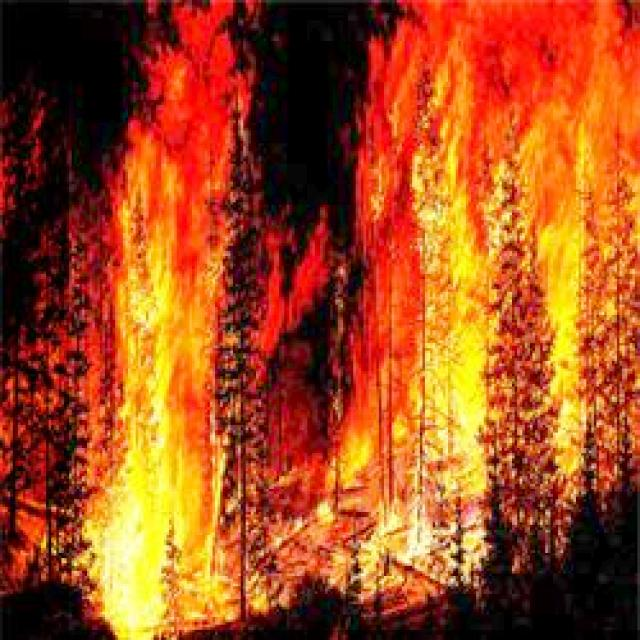Fire: (69, 0, 640, 630)
